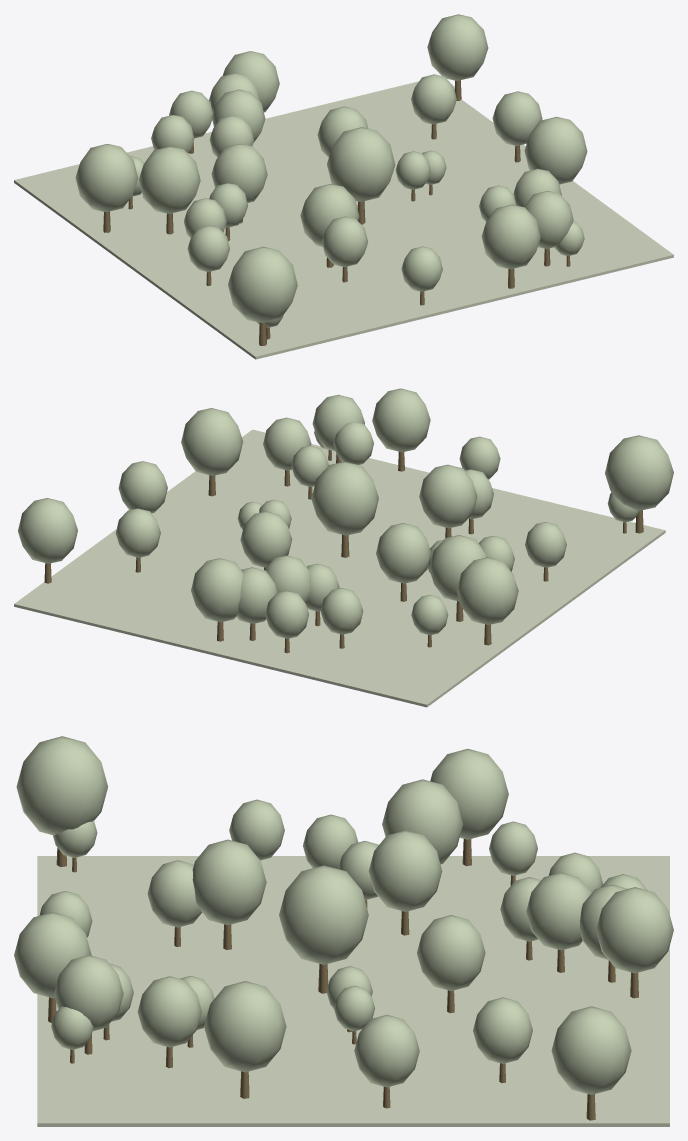
The picture shows the model from 3 angles, top to bottom: view 1: azimuth 30°, elevation 25°; view 2: azimuth 150°, elevation 25°; view 3: azimuth 270°, elevation 25°; orthographic projection. The views are drawn at different scales.
Visible parts, largest first — view 1: terrain, lod-near-19, lod-near-12, lod-near-5, lod-near-31, lod-near-9, lod-near-7, lod-near-20, lod-near-22, lod-near-26, lod-near-0, lod-near-23 (+18 smaller); view 2: terrain, lod-near-19, lod-near-12, lod-near-7, lod-near-5, lod-near-9, lod-near-20, lod-near-26, lod-near-13, lod-near-22, lod-near-31, lod-near-8 (+17 smaller); view 3: terrain, lod-near-19, lod-near-12, lod-near-7, lod-near-9, lod-near-13, lod-near-26, lod-near-22, lod-near-5, lod-near-20, lod-near-31, lod-near-8 (+19 smaller).
Part boxes in pixels (x1,y1,x2,y2): terrain: (14,81,673,359); lod-near-19: (228,246,297,322); lod-near-12: (327,127,395,201); lod-near-5: (75,144,138,212); lod-near-31: (139,146,200,213); lod-near-9: (427,14,488,80); lod-near-7: (524,117,587,184); lod-near-20: (481,204,540,269); lod-near-22: (211,143,267,202); lod-near-26: (300,184,359,246); lod-near-0: (492,91,542,145); lod-near-23: (524,191,573,248); terrain: (14,429,665,707); lod-near-19: (605,435,673,510); lod-near-12: (311,461,378,535); lod-near-7: (181,408,243,475); lod-near-5: (457,557,518,624); lod-near-9: (18,498,77,563); lod-near-20: (372,388,430,452); lod-near-26: (419,464,477,528); lod-near-13: (191,558,243,622); lod-near-22: (376,523,431,583); lod-near-31: (429,535,486,601); lod-near-8: (240,511,292,567); terrain: (37,856,669,1126); lod-near-19: (16,736,107,835); lod-near-12: (279,865,368,964); lod-near-7: (204,981,286,1072); lod-near-9: (551,1006,631,1094); lod-near-13: (596,887,673,973); lod-near-26: (192,839,266,925); lod-near-22: (368,830,442,911); lod-near-5: (430,748,508,839); lod-near-20: (14,912,91,998); lod-near-31: (382,779,463,864); lod-near-8: (417,915,485,990).
Bounding box in the file's own units: 34.71 × 7.32 × 33.38.
